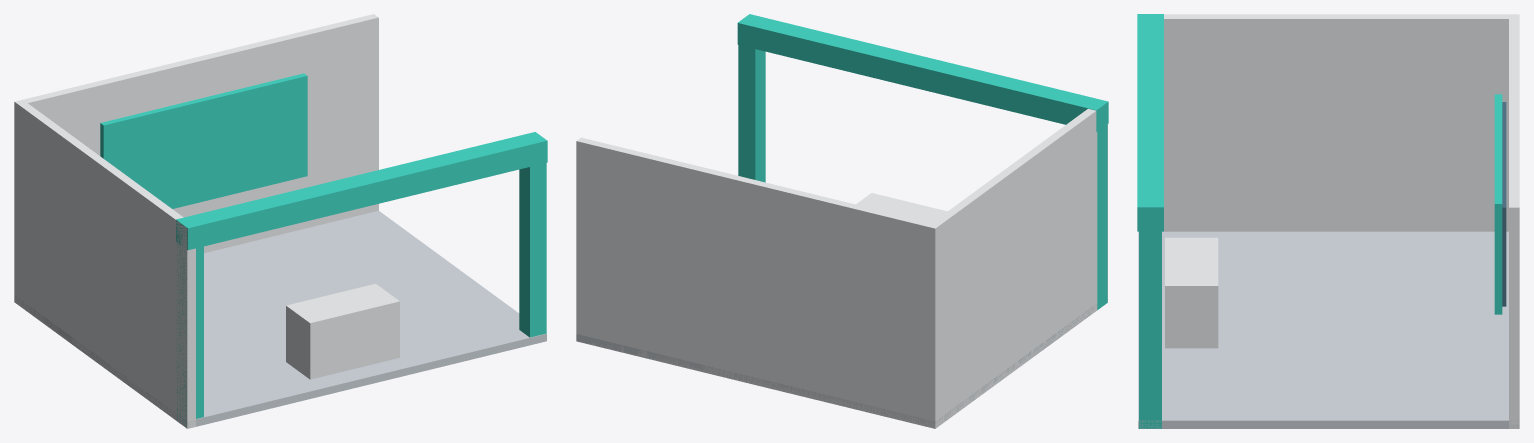
3 views of the same model, side by side, from view 1: azimuth 30°, elevation 25°; view 2: azimuth 150°, elevation 25°; view 3: azimuth 270°, elevation 25° (orthographic). The views are drawn at different scales.
Visible parts, largest first — view 1: Exhibition Booth Concept; view 2: Exhibition Booth Concept; view 3: Exhibition Booth Concept.
Part boxes in pixels (x1,y1,x2,y2): Exhibition Booth Concept: [14, 14, 547, 428]; Exhibition Booth Concept: [576, 14, 1108, 428]; Exhibition Booth Concept: [1137, 14, 1519, 428].
Size of the model in its own units: 6 by 3.2 by 5.02.
